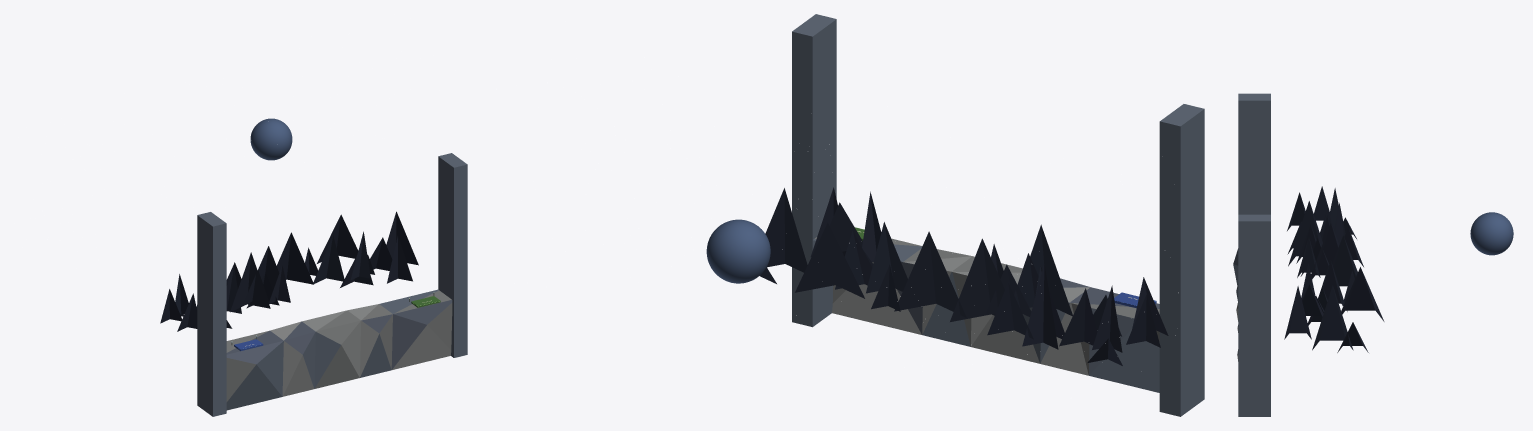
Rendered from 05-moon.glb.
3 views of the same model, side by side, from view 1: azimuth 30°, elevation 25°; view 2: azimuth 150°, elevation 25°; view 3: azimuth 270°, elevation 25° (orthographic). The views are drawn at different scales.
Visible parts, largest first — view 1: terrain_floor, terrain_wall_-1, terrain_wall_1, planet_horizon, background_spire_01, background_spire_18, background_spire_20, background_spire_00, background_spire_05, background_spire_16, background_spire_12, background_spire_04 (+2 smaller); view 2: terrain_wall_-1, terrain_floor, terrain_wall_1, planet_horizon, background_spire_18, background_spire_20, background_spire_11, background_spire_05, background_spire_01, background_spire_13, background_spire_00, background_spire_23 (+8 smaller); view 3: terrain_wall_1, terrain_wall_-1, planet_horizon, background_spire_05, background_spire_20, background_spire_18, background_spire_11, background_spire_16, background_spire_01, background_spire_00, background_spire_04, background_spire_15 (+4 smaller).
Boxes of the visible parts, left/top/right/bottom form: terrain_floor: left=226, top=289, right=452, bottom=410; terrain_wall_-1: left=197, top=212, right=226, bottom=416; terrain_wall_1: left=438, top=153, right=467, bottom=357; planet_horizon: left=250, top=118, right=292, bottom=160; background_spire_01: left=230, top=252, right=270, bottom=312; background_spire_18: left=276, top=232, right=313, bottom=284; background_spire_20: left=317, top=214, right=358, bottom=263; background_spire_00: left=312, top=235, right=344, bottom=284; background_spire_05: left=386, top=211, right=418, bottom=265; background_spire_16: left=387, top=236, right=412, bottom=283; background_spire_12: left=350, top=231, right=370, bottom=279; background_spire_04: left=368, top=237, right=392, bottom=270; terrain_wall_-1: left=1159, top=104, right=1204, bottom=416; terrain_floor: left=813, top=237, right=1159, bottom=392; terrain_wall_1: left=792, top=14, right=836, bottom=327; planet_horizon: left=706, top=219, right=770, bottom=283; background_spire_18: left=894, top=231, right=966, bottom=317; background_spire_20: left=795, top=223, right=864, bottom=298; background_spire_11: left=950, top=238, right=1004, bottom=321; background_spire_05: left=765, top=188, right=807, bottom=272; background_spire_01: left=1015, top=224, right=1072, bottom=316; background_spire_13: left=1022, top=263, right=1058, bottom=349; background_spire_00: left=866, top=222, right=907, bottom=293; background_spire_23: left=987, top=282, right=1033, bottom=339; terrain_wall_1: left=1238, top=214, right=1270, bottom=416; terrain_wall_-1: left=1238, top=93, right=1270, bottom=214; planet_horizon: left=1470, top=212, right=1513, bottom=255; background_spire_05: left=1312, top=285, right=1353, bottom=350; background_spire_20: left=1341, top=267, right=1384, bottom=321; background_spire_18: left=1332, top=235, right=1357, bottom=286; background_spire_11: left=1311, top=223, right=1339, bottom=279; background_spire_16: left=1284, top=286, right=1311, bottom=339; background_spire_01: left=1288, top=201, right=1322, bottom=266; background_spire_00: left=1319, top=260, right=1347, bottom=311; background_spire_04: left=1302, top=284, right=1323, bottom=316; background_spire_15: left=1297, top=237, right=1320, bottom=277.
Size of what is drawn, in the model's own units: 89.58 by 49.82 by 52.95.
